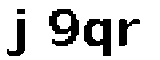9: (44, 7, 82, 50)
j: (5, 5, 34, 60)
q: (83, 14, 118, 60)
r: (118, 15, 143, 50)
